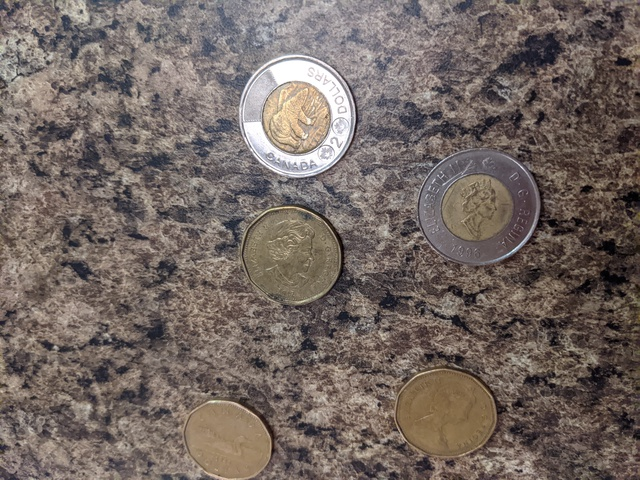loonie: (384, 354, 507, 462), (231, 199, 347, 310), (163, 384, 274, 475)
twonie: (418, 145, 545, 269), (238, 52, 359, 180)
